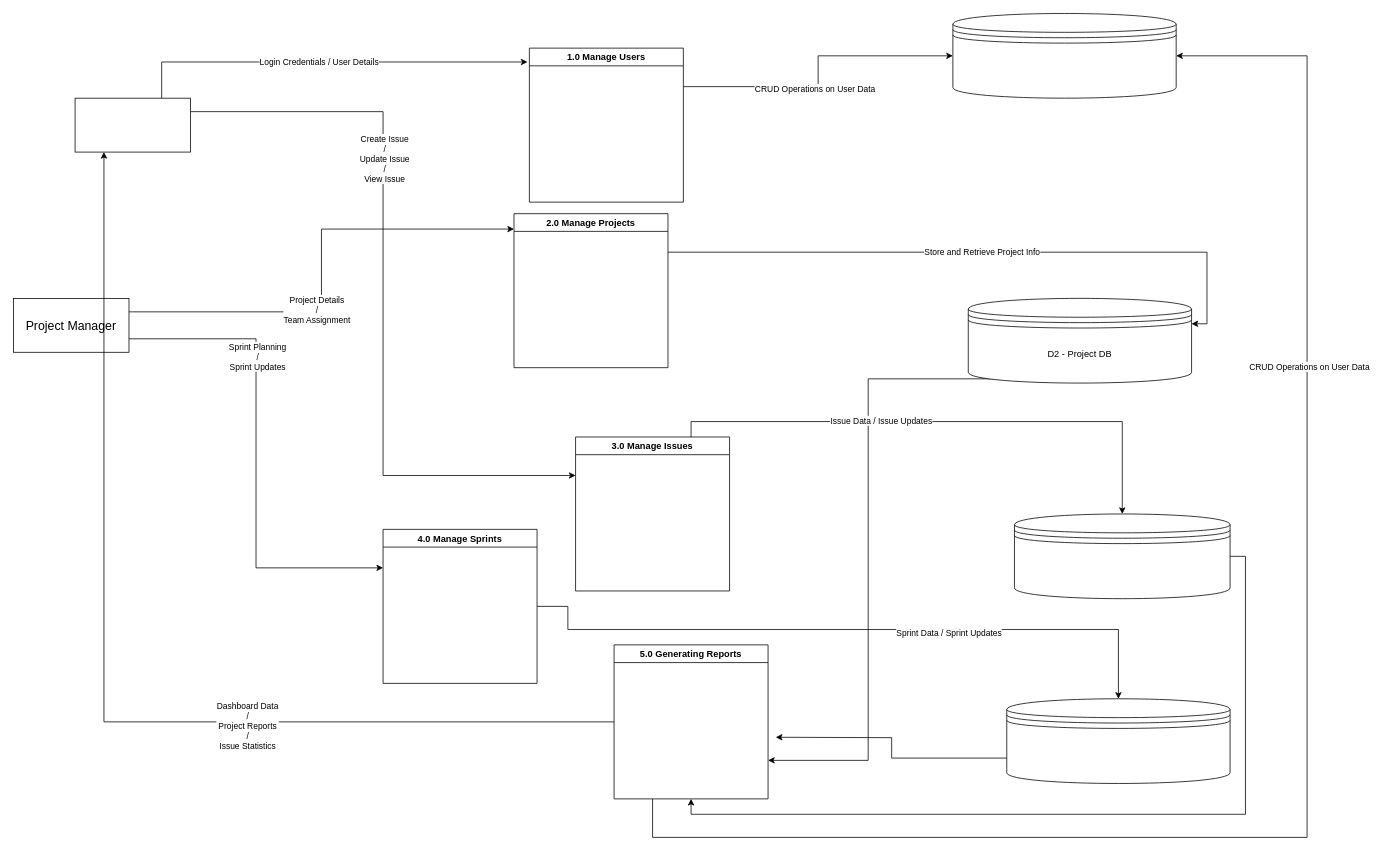
This 1383x857 diagram has some shape labels left out. The centre of each missing label's shape, as x and y in pixels:
D1 - User DB: point (1064, 55)
D3 - Issue DB: point (1122, 556)
D4 - Sprint DB: point (1118, 740)
User: point (132, 124)
